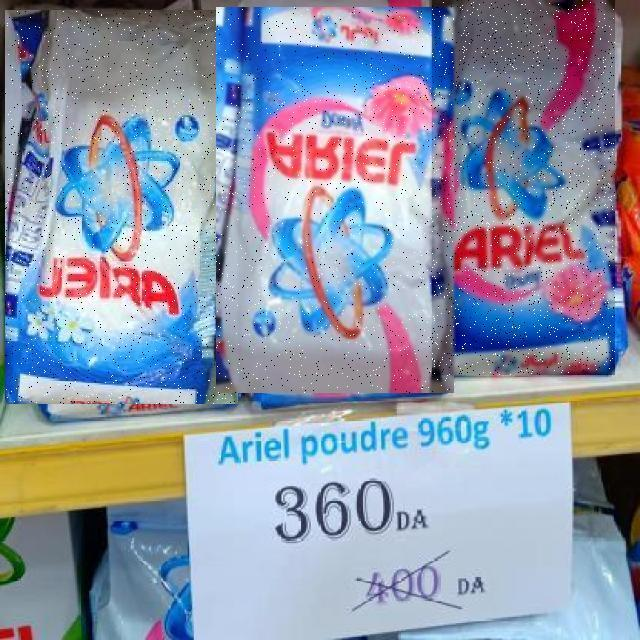Detergent: (217, 7, 455, 393), (5, 10, 238, 404), (432, 0, 615, 375)
